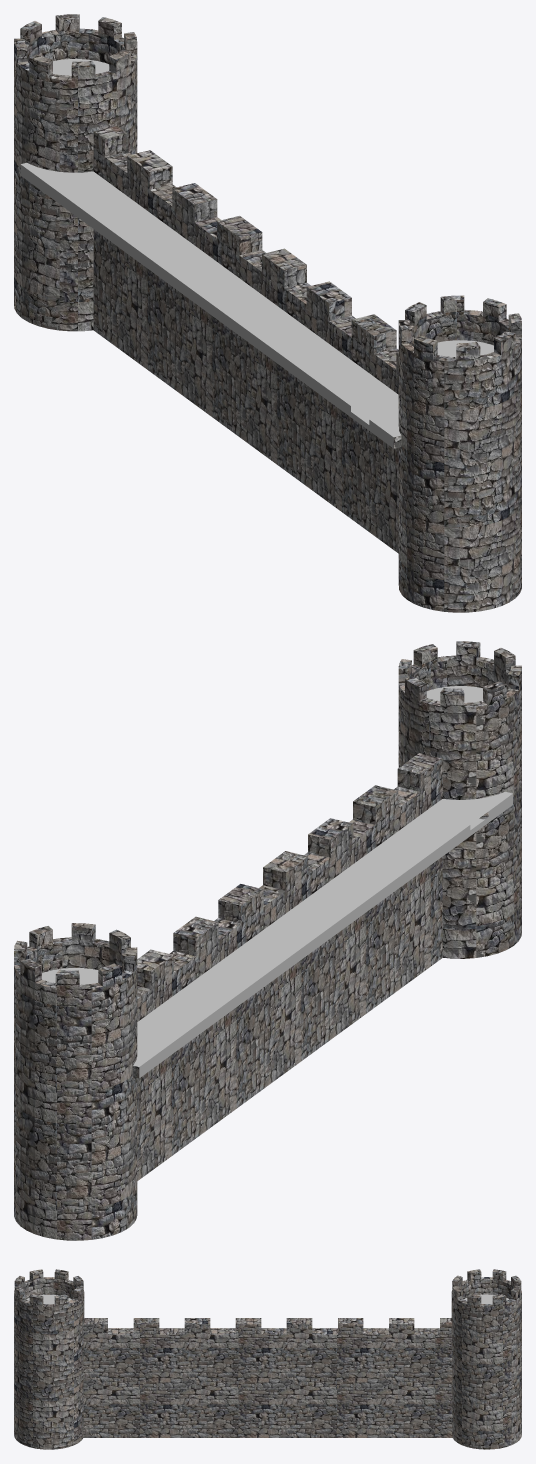
Rendered from 017_CastleNewA01.obj.
The picture shows the model from 3 angles, top to bottom: view 1: azimuth 30°, elevation 25°; view 2: azimuth 150°, elevation 25°; view 3: azimuth 270°, elevation 25°; orthographic projection. The views are drawn at different scales.
Visible parts, largest first — view 1: Cylinder.000_Cylinder.007; view 2: Cylinder.000_Cylinder.007; view 3: Cylinder.000_Cylinder.007.
Part boxes in pixels (x1,y1,x2,y2): Cylinder.000_Cylinder.007: (14, 14, 521, 612); Cylinder.000_Cylinder.007: (14, 641, 521, 1240); Cylinder.000_Cylinder.007: (14, 1269, 521, 1449).
Size of the model in its own units: 120 by 269 by 820.
